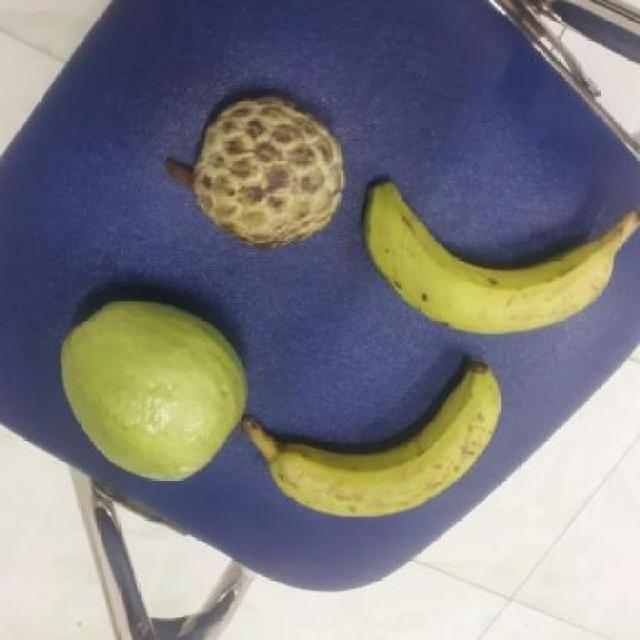banana: (236, 358, 496, 514), (361, 184, 624, 333)
guava: (53, 295, 244, 470)
sugar apple: (171, 94, 343, 251)
